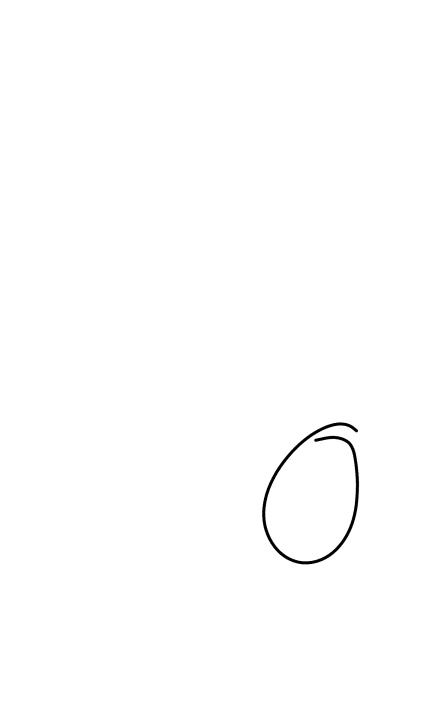Circle: (256, 416, 366, 570)
